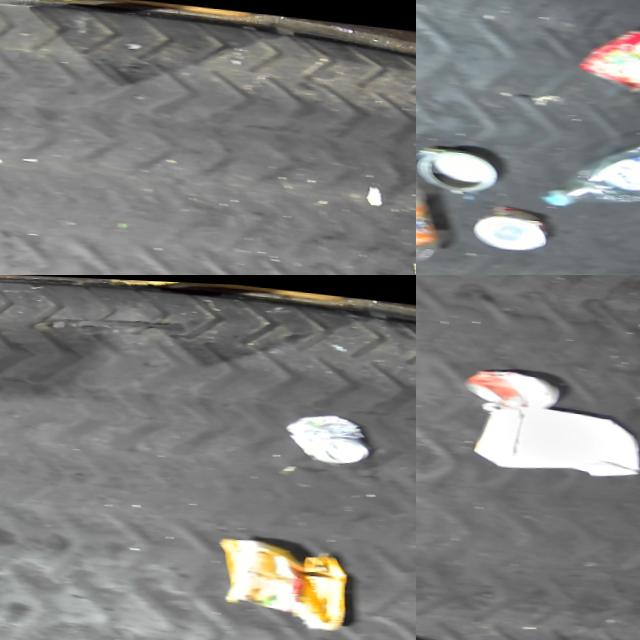can: (564, 15, 640, 91), (280, 406, 371, 463), (447, 359, 558, 405), (458, 197, 541, 249), (416, 139, 490, 190), (627, 64, 640, 127)
non_white_jug: (209, 531, 349, 628)
plastic_bottle: (521, 118, 640, 218)
